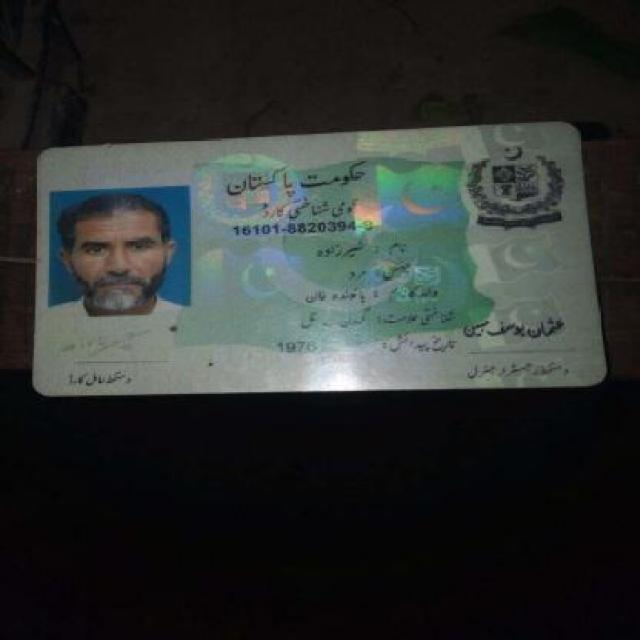Front: (24, 122, 614, 398)
